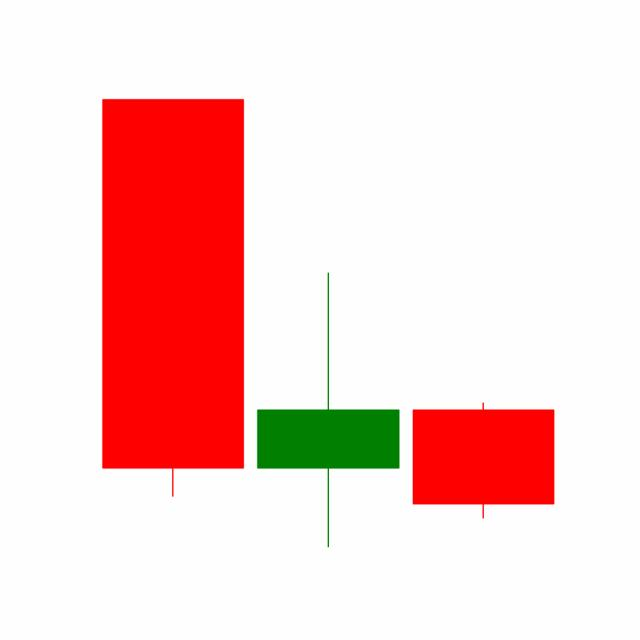Spinning Top: (249, 269, 406, 550)
